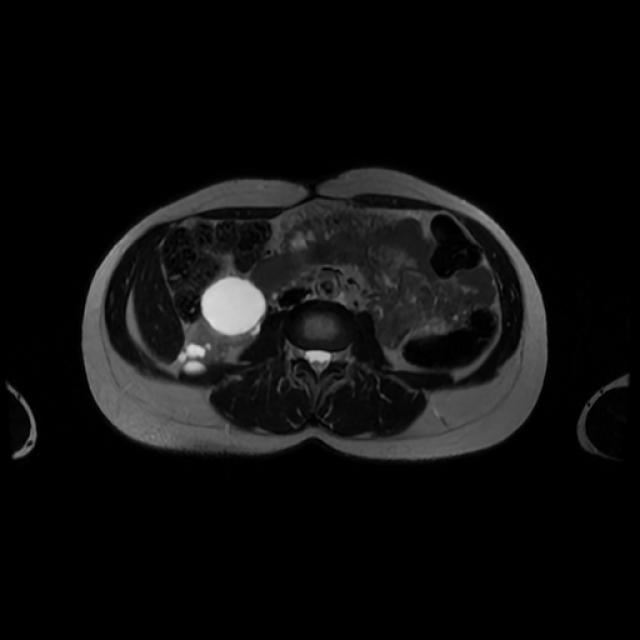sag: (176, 280, 267, 373)
